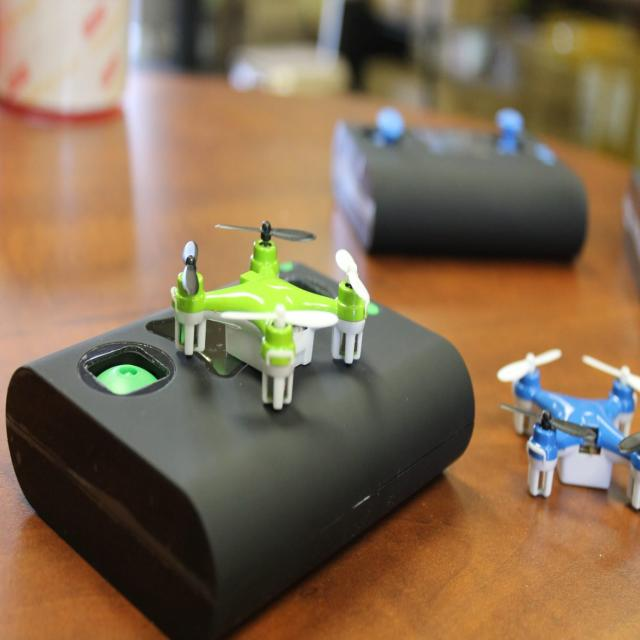drones: (155, 208, 375, 416), (489, 336, 640, 514)
